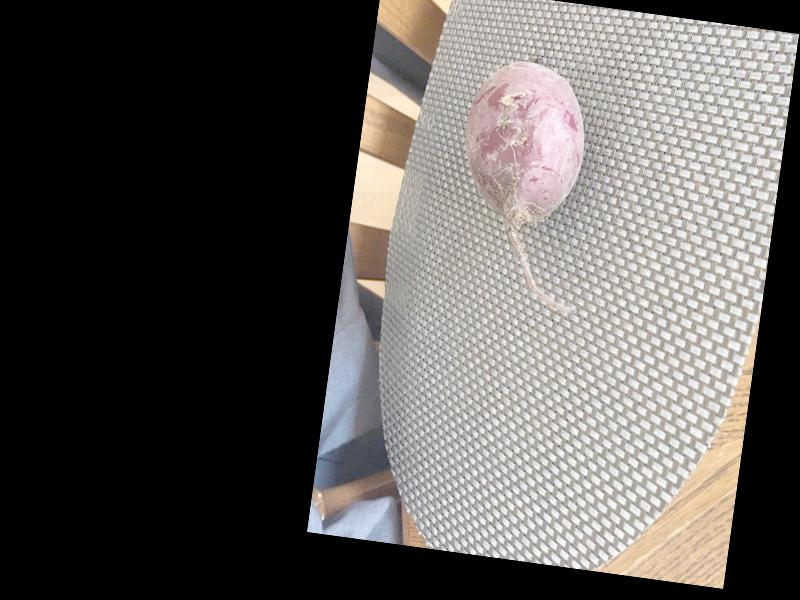Beet: (442, 57, 607, 314)
